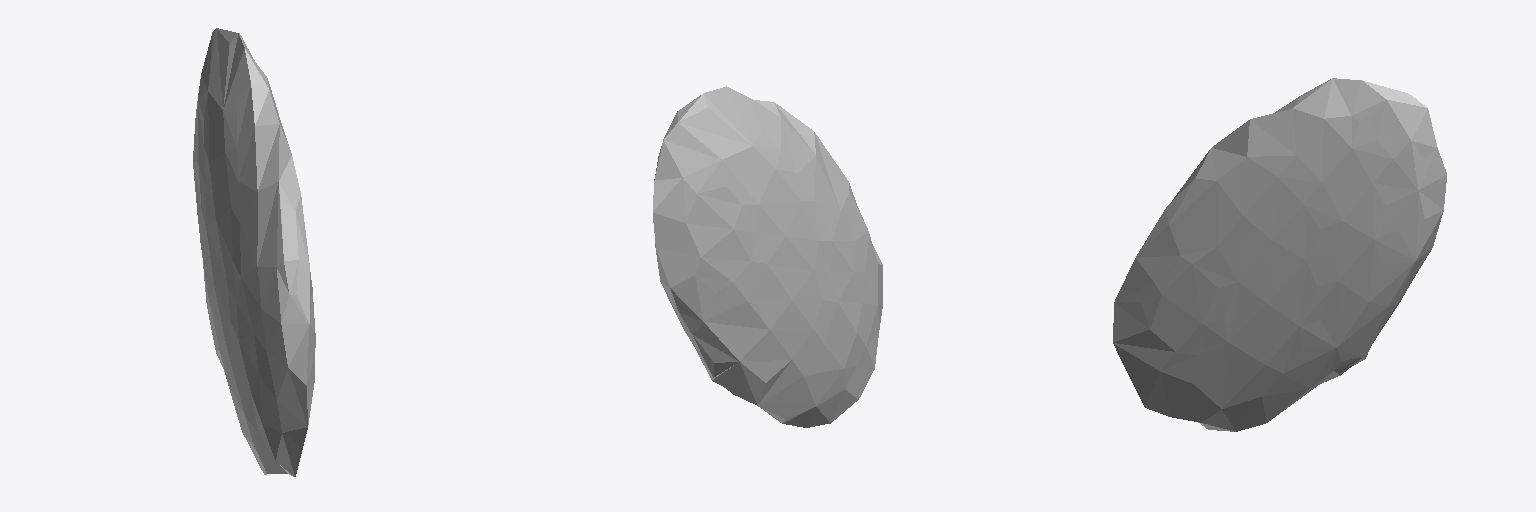
The model's file is modeloPiedras8.obj.
3 views of the same model, side by side, from view 1: azimuth 30°, elevation 25°; view 2: azimuth 150°, elevation 25°; view 3: azimuth 270°, elevation 25° (orthographic).
Size of the model in its own units: 0.5572 by 2.12 by 1.72.